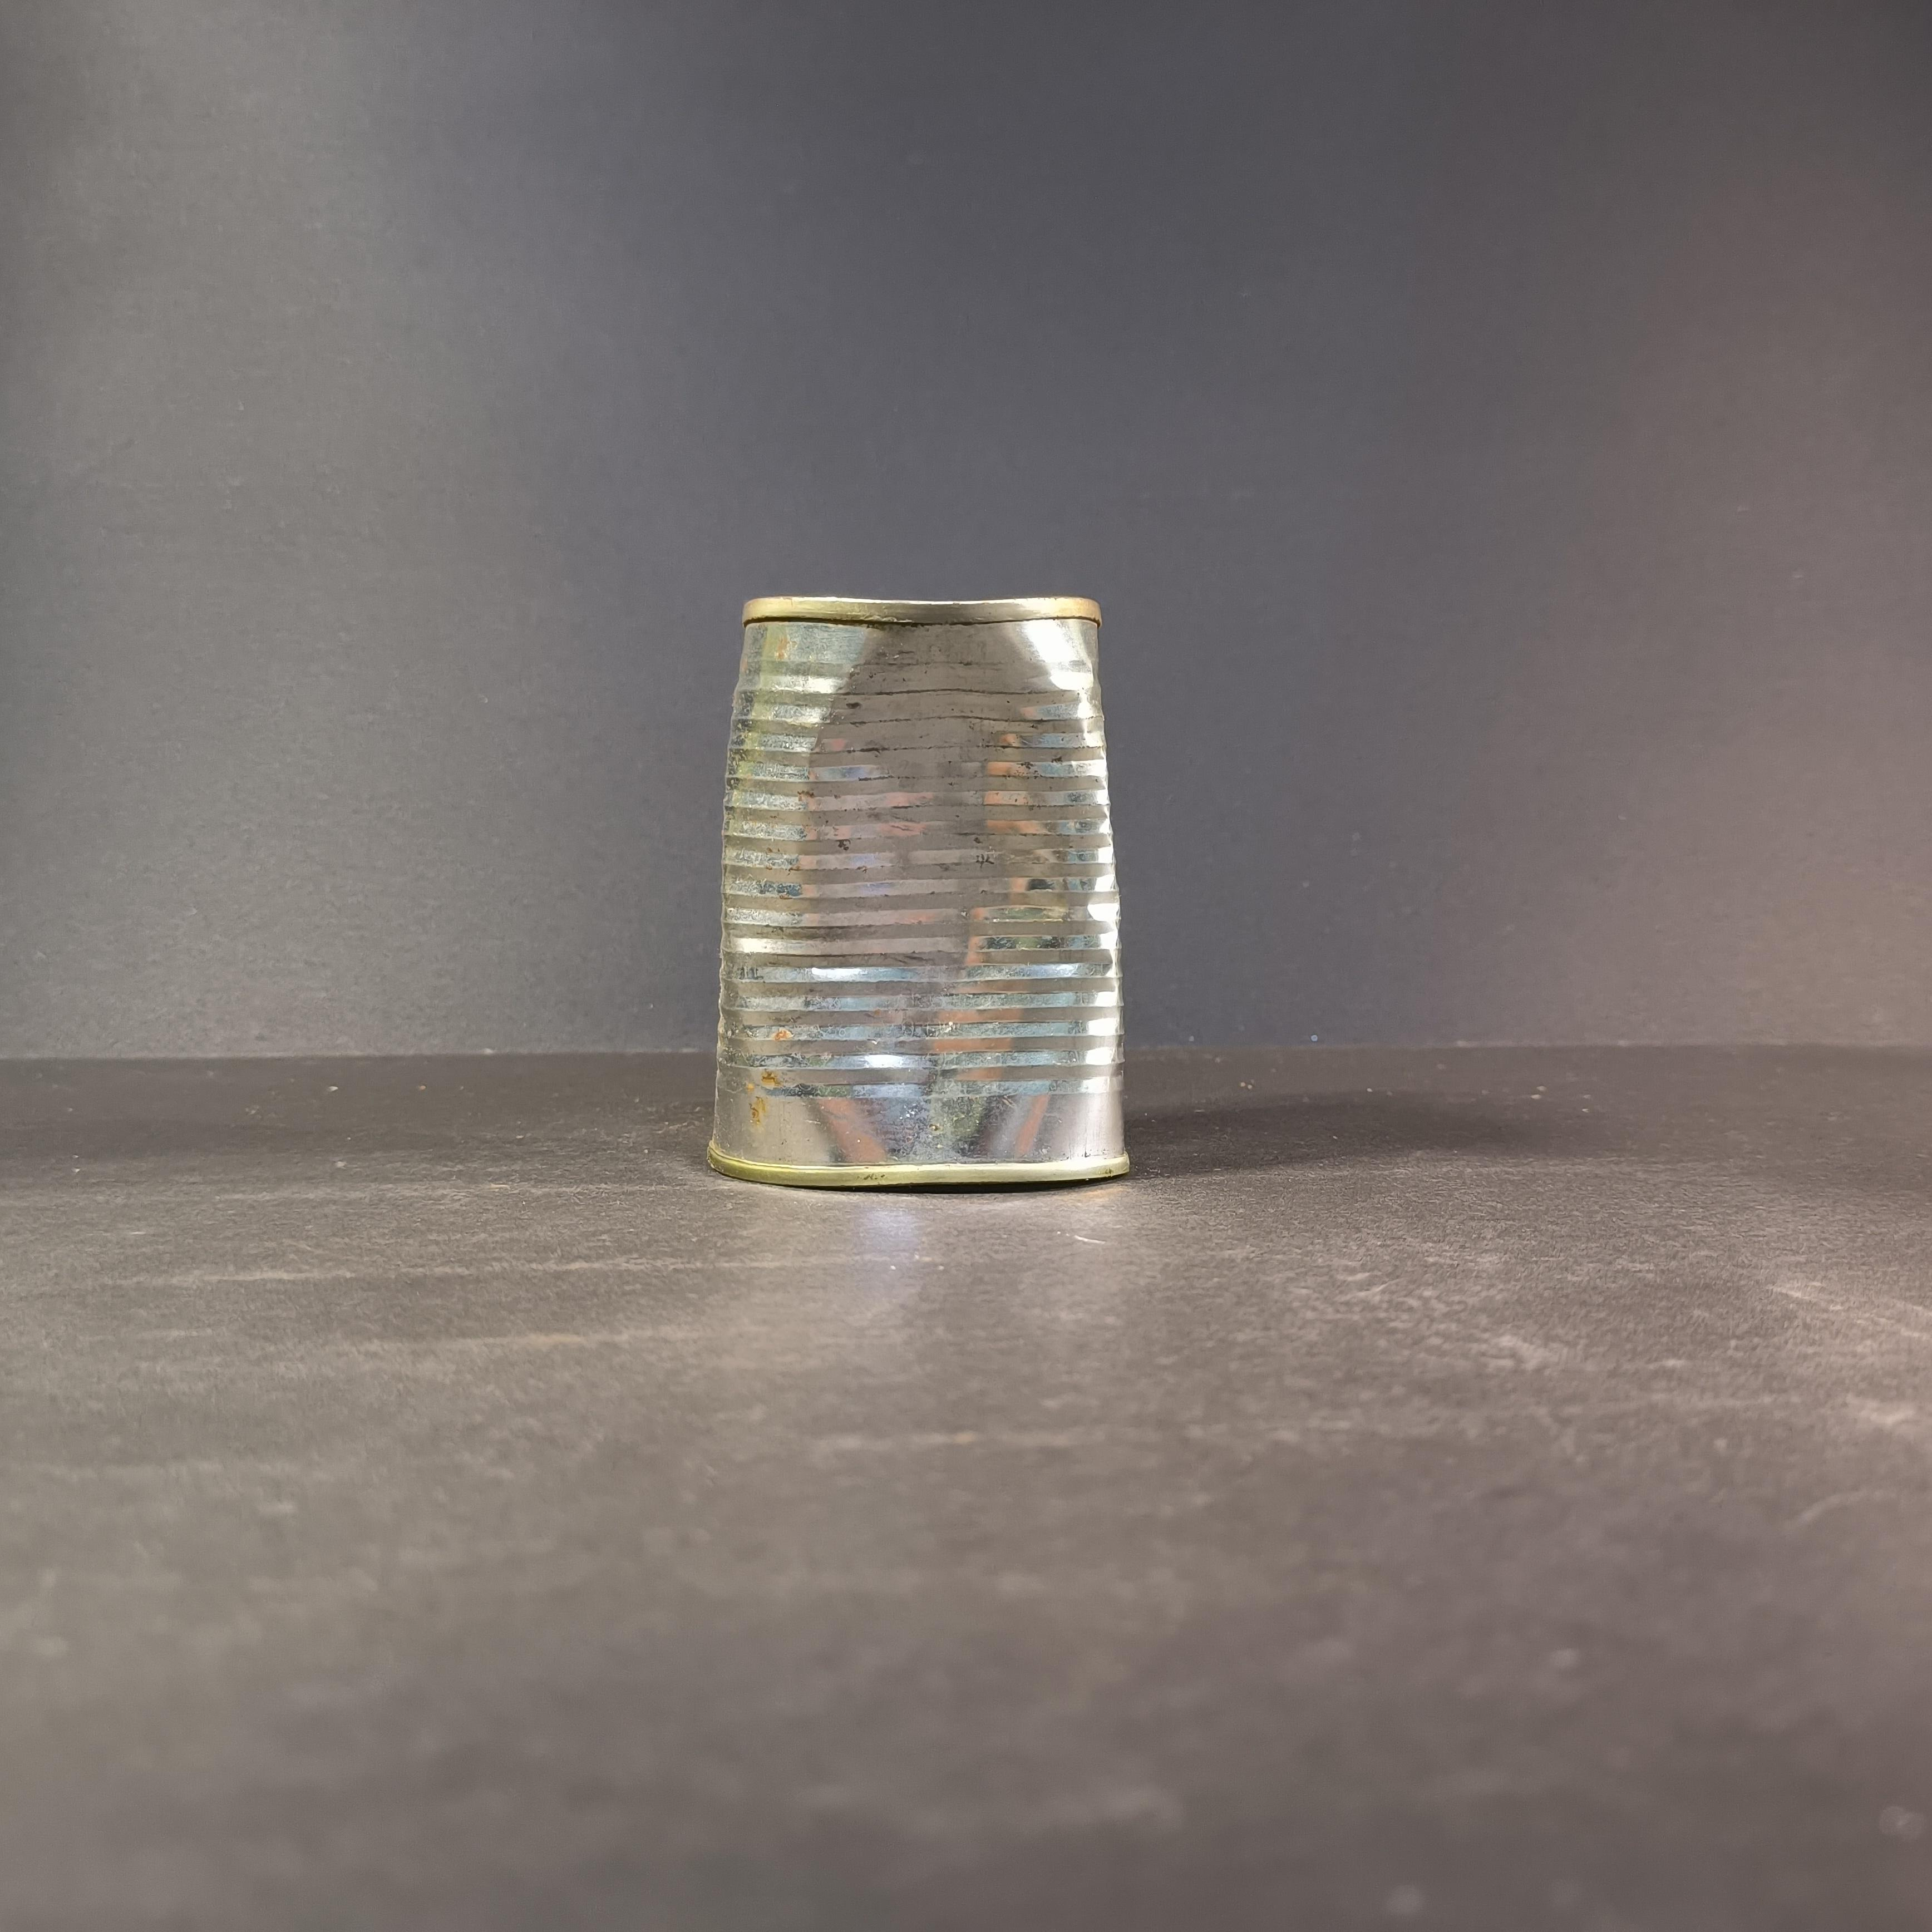Dented: (686, 570, 1157, 1210)
